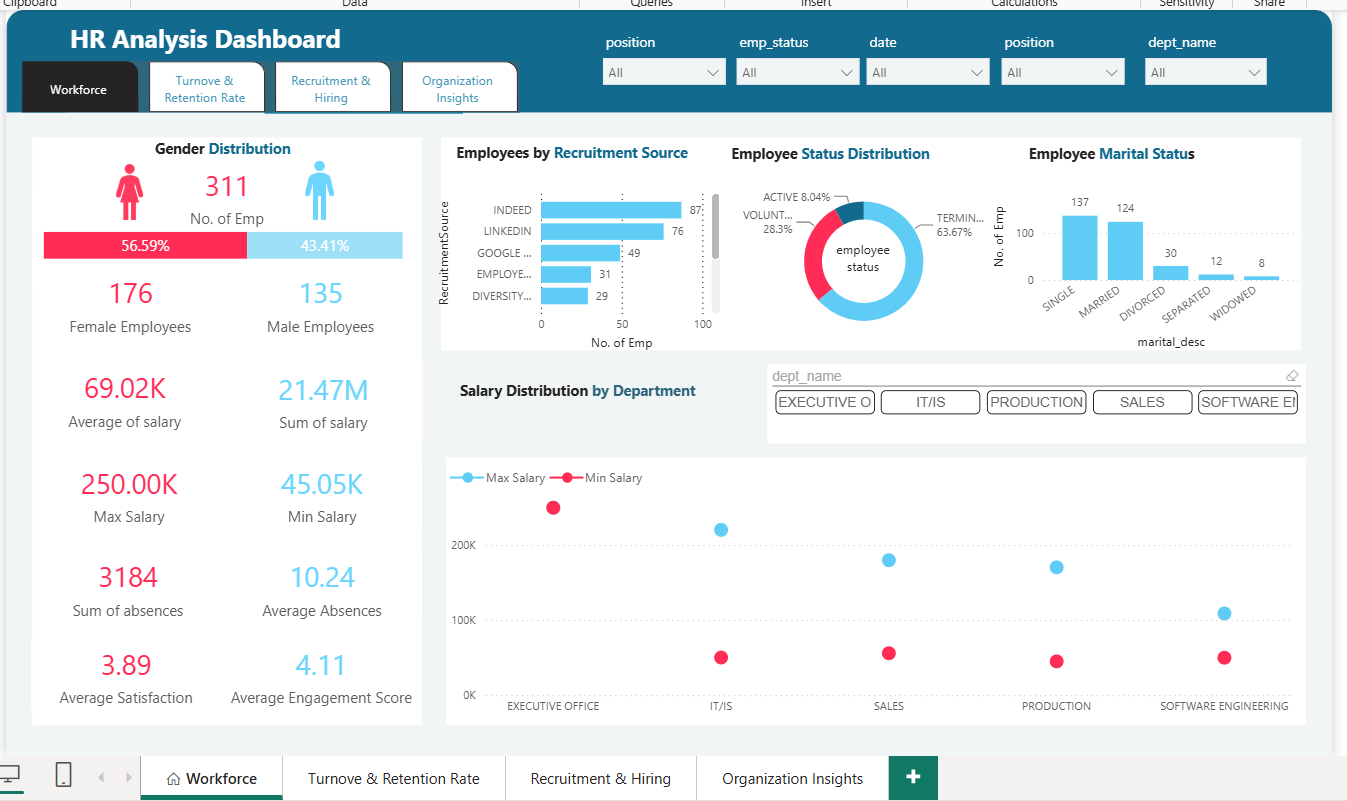

The dashboard page shown, as its layout file describes it:
{"tool":"powerbi","page":{"name":"Workforce","canvas":[1280,720],"ordinal":0},"visuals":[{"type":"shape","box":[419.5,123.3,830.6,205.5],"z":0},{"type":"donutChart","fields":{"Y":["fact_hr_snapshot.No. of Emp"],"Category":["dim_emp_status.emp_status"]},"box":[702.8,160,249.4,164.4],"z":0,"group":"g2"},{"type":"columnChart","fields":{"Category":["dim_emp.marital_desc"],"Y":["fact_hr_snapshot.No. of Emp"]},"box":[948.3,163.3,304.5,170],"z":0,"group":"g1"},{"type":"clusteredBarChart","fields":{"Category":["dim_recruitment.RecruitmentSource"],"Y":["fact_hr_snapshot.No. of Emp"]},"box":[412.9,164.3,281.7,170],"z":0,"group":"g3"},{"type":"textbox","box":[780.6,217.7,93.3,48.3],"z":1000,"group":"g2"},{"type":"shape","box":[424.3,431.4,830,258.6],"z":1000},{"type":"shape","box":[25.1,122.7,376.2,567.3],"z":2000},{"type":"textbox","box":[57.2,5.6,344.5,58.6],"z":3000},{"type":"hundredPercentStackedBarChart","fields":{"Series":["dim_emp.sex"],"Y":["fact_hr_snapshot.No. of Emp"]},"box":[25.2,160.1,366.7,124.8],"z":4000},{"type":"card","fields":{"Values":["dim_emp.Male Employees"]},"box":[206.2,239.4,195.1,89.5],"z":5000},{"type":"card","fields":{"Values":["Sum(fact_hr_snapshot.salary)"]},"box":[207,330.4,195.3,89.3],"z":6000},{"type":"card","fields":{"Values":["fact_hr_snapshot.Min Salary"]},"box":[206.2,421.4,195.1,89.5],"z":7000},{"type":"card","fields":{"Values":["fact_hr_snapshot.Average Absences"]},"box":[206.2,511.9,195.1,89.5],"z":8000},{"type":"card","fields":{"Values":["dim_emp.Female Employees"]},"box":[26.2,239.4,187.1,89.5],"z":9000},{"type":"card","fields":{"Values":["Avg(fact_hr_snapshot.salary)"]},"box":[15.1,330.9,198.1,89.5],"z":10000},{"type":"card","fields":{"Values":["fact_hr_snapshot.Max Salary"]},"box":[26.2,421.4,182,89.5],"z":11000},{"type":"card","fields":{"Values":["Sum(fact_hr_snapshot.absences)"]},"box":[26.2,511.9,180,89.5],"z":12000},{"type":"card","fields":{"Values":["Avg(fact_hr_snapshot.engagementsurvey)"]},"box":[205.2,596.4,196.1,89.5],"z":13000},{"type":"card","fields":{"Values":["fact_hr_snapshot.Average Satisfaction"]},"box":[24.1,596.4,181,89.5],"z":14000},{"type":"slicer","fields":{"Values":["dim_position.position"]},"box":[566.2,16.7,138.6,71.8],"z":15000},{"type":"slicer","fields":{"Values":["dim_emp_status.emp_status"]},"box":[694.8,16.7,138.6,71.8],"z":16000},{"type":"slicer","fields":{"Values":["Calendar_Hire.Year"]},"box":[820.6,17,138.9,65.2],"z":17000},{"type":"slicer","fields":{"Values":["dim_position.position"]},"box":[950.6,16.7,138.6,71.8],"z":18000},{"type":"slicer","fields":{"Values":["dim_department.dept_name"]},"box":[1089.9,17,137.5,70.9],"z":19000},{"type":"actionButton","box":[101.1,62.2,99.9,40],"z":20000},{"type":"actionButton","box":[264.3,62.2,156.6,40],"z":21000},{"type":"textbox","box":[430,122.9,242.9,51.4],"z":22000},{"type":"textbox","box":[138.9,119.1,146,39.7],"z":23000},{"type":"textbox","box":[433.7,352.7,411.5,40.5],"z":24000},{"type":"image","box":[86,140.7,67.4,68.6],"z":25000},{"type":"group","id":"g1","title":"Group 1","box":[948.3,163.3,305,170],"z":26000},{"type":"group","id":"g2","title":"Group 2","box":[702.8,160,249.4,164.4],"z":27000},{"type":"group","id":"g3","title":"Group 3","box":[412.9,164.3,281.4,170],"z":28000},{"type":"image","box":[264.9,138.5,74.5,71],"z":32000},{"type":"card","fields":{"Values":["fact_hr_snapshot.No. of Emp"]},"box":[120.5,134.6,185.7,89.3],"z":33000},{"type":"lineChart","title":"Max and Min of Annual Salary by Job Level","fields":{"Category":["dim_department.dept_name"],"Y":["fact_hr_snapshot.Max Salary","fact_hr_snapshot.Min Salary"]},"box":[424.3,431.4,834.3,258.6],"z":34000},{"type":"textbox","box":[694.5,124.7,265,39.7],"z":35000},{"type":"textbox","box":[982.2,124.7,238.1,39.7],"z":36000},{"type":"ChicletSlicer1448559807354","fields":{"Category":["dim_department.dept_name"]},"box":[734.3,341.4,520,77.1],"z":37000}]}

Visuals, with their boxes on the page's 1280x720 design canvas (x1, y1, x2, y2). These are canvas units, not pixel positions in the 1347x801 screenshot, which may show the page scaled, cropped or inside an application window:
shape: Rect(420, 123, 1250, 329)
donutChart - fact_hr_snapshot.No. of Emp x dim_emp_status.emp_status: Rect(703, 160, 952, 324)
columnChart - dim_emp.marital_desc x fact_hr_snapshot.No. of Emp: Rect(948, 163, 1253, 333)
clusteredBarChart - dim_recruitment.RecruitmentSource x fact_hr_snapshot.No. of Emp: Rect(413, 164, 695, 334)
textbox: Rect(781, 218, 874, 266)
shape: Rect(424, 431, 1254, 690)
shape: Rect(25, 123, 401, 690)
textbox: Rect(57, 6, 402, 64)
hundredPercentStackedBarChart - dim_emp.sex x fact_hr_snapshot.No. of Emp: Rect(25, 160, 392, 285)
card - dim_emp.Male Employees: Rect(206, 239, 401, 329)
card - Sum(fact_hr_snapshot.salary): Rect(207, 330, 402, 420)
card - fact_hr_snapshot.Min Salary: Rect(206, 421, 401, 511)
card - fact_hr_snapshot.Average Absences: Rect(206, 512, 401, 601)
card - dim_emp.Female Employees: Rect(26, 239, 213, 329)
card - Avg(fact_hr_snapshot.salary): Rect(15, 331, 213, 420)
card - fact_hr_snapshot.Max Salary: Rect(26, 421, 208, 511)
card - Sum(fact_hr_snapshot.absences): Rect(26, 512, 206, 601)
card - Avg(fact_hr_snapshot.engagementsurvey): Rect(205, 596, 401, 686)
card - fact_hr_snapshot.Average Satisfaction: Rect(24, 596, 205, 686)
slicer - dim_position.position: Rect(566, 17, 705, 88)
slicer - dim_emp_status.emp_status: Rect(695, 17, 833, 88)
slicer - Calendar_Hire.Year: Rect(821, 17, 960, 82)
slicer - dim_position.position: Rect(951, 17, 1089, 88)
slicer - dim_department.dept_name: Rect(1090, 17, 1227, 88)
actionButton: Rect(101, 62, 201, 102)
actionButton: Rect(264, 62, 421, 102)
textbox: Rect(430, 123, 673, 174)
textbox: Rect(139, 119, 285, 159)
textbox: Rect(434, 353, 845, 393)
image: Rect(86, 141, 153, 209)
"Group 1" group: Rect(948, 163, 1253, 333)
"Group 2" group: Rect(703, 160, 952, 324)
"Group 3" group: Rect(413, 164, 694, 334)
image: Rect(265, 138, 339, 210)
card - fact_hr_snapshot.No. of Emp: Rect(120, 135, 306, 224)
"Max and Min of Annual Salary by Job Level" lineChart: Rect(424, 431, 1259, 690)
textbox: Rect(694, 125, 960, 164)
textbox: Rect(982, 125, 1220, 164)
ChicletSlicer1448559807354 - dim_department.dept_name: Rect(734, 341, 1254, 418)
